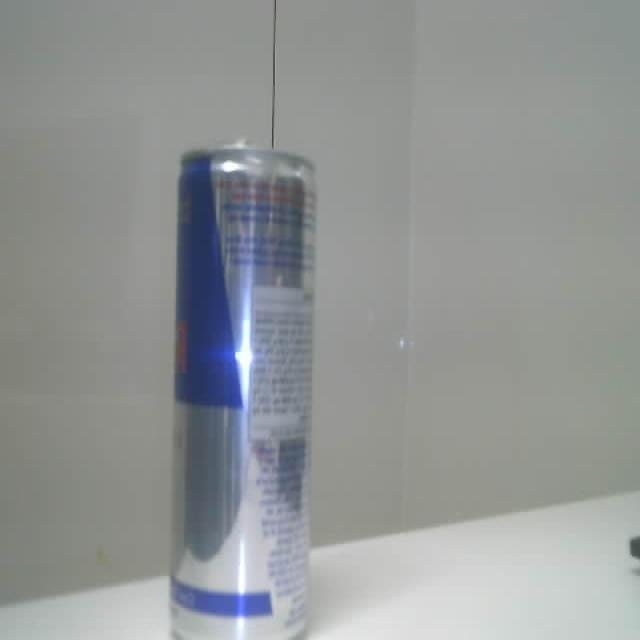redbull can: (171, 144, 314, 639)
